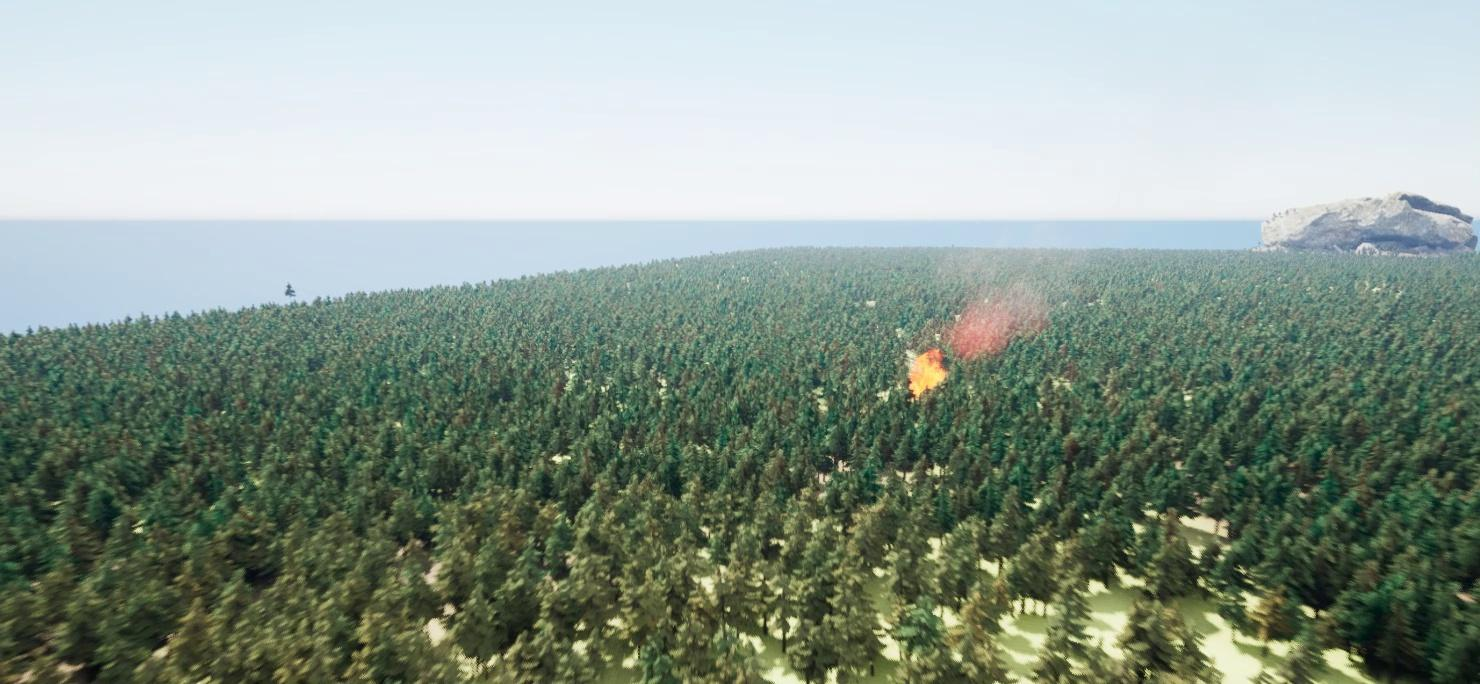fire: (903, 346, 948, 400)
smoke: (939, 280, 1057, 361)
